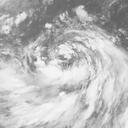cyclone: (29, 30, 103, 91)
